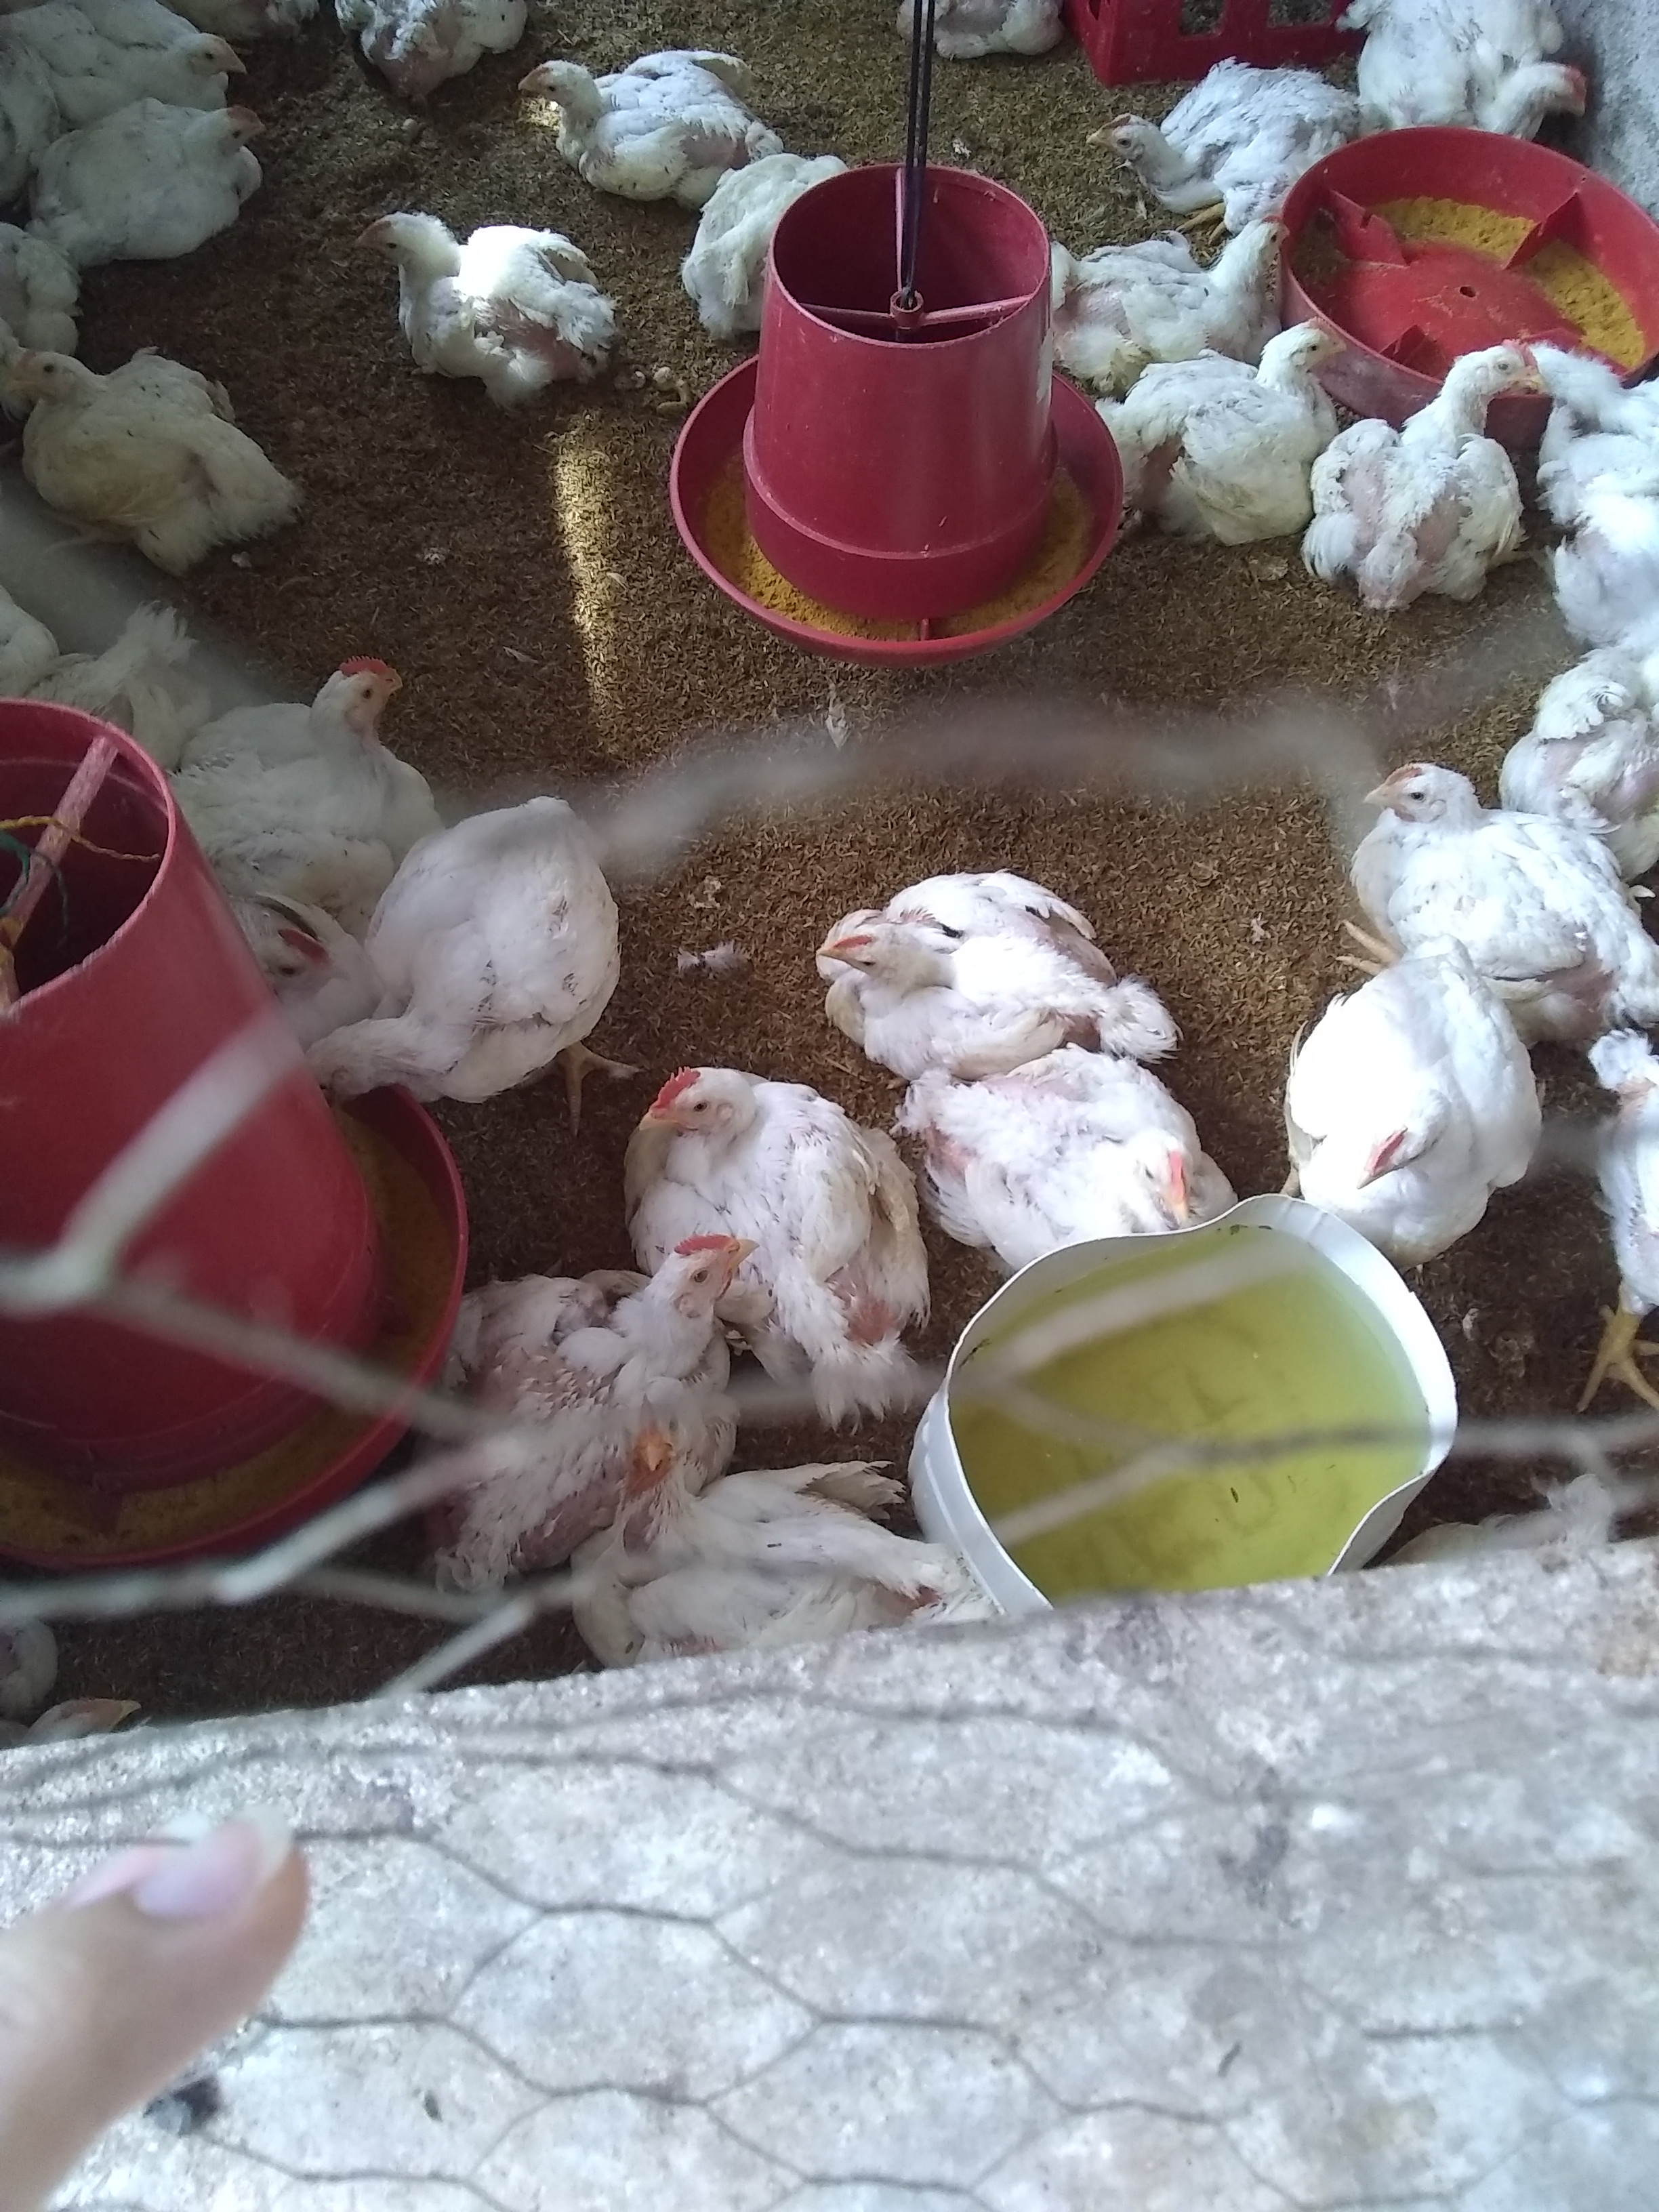Pollos: (354, 1217, 728, 1595), (305, 773, 657, 1115), (620, 1038, 931, 1397), (1319, 733, 1659, 1028), (568, 1426, 931, 1679), (756, 826, 1145, 1028), (181, 632, 441, 934), (863, 1052, 1256, 1247), (1276, 984, 1528, 1280), (329, 181, 619, 420), (9, 347, 310, 575), (1295, 326, 1542, 603), (1096, 303, 1345, 570), (3, 99, 289, 272), (1042, 181, 1295, 366), (667, 125, 878, 340), (504, 24, 760, 186), (1338, 0, 1589, 158), (1537, 326, 1659, 644), (1499, 631, 1659, 867), (1133, 30, 1326, 214), (0, 0, 240, 146), (321, 0, 532, 101), (884, 0, 1070, 63)
